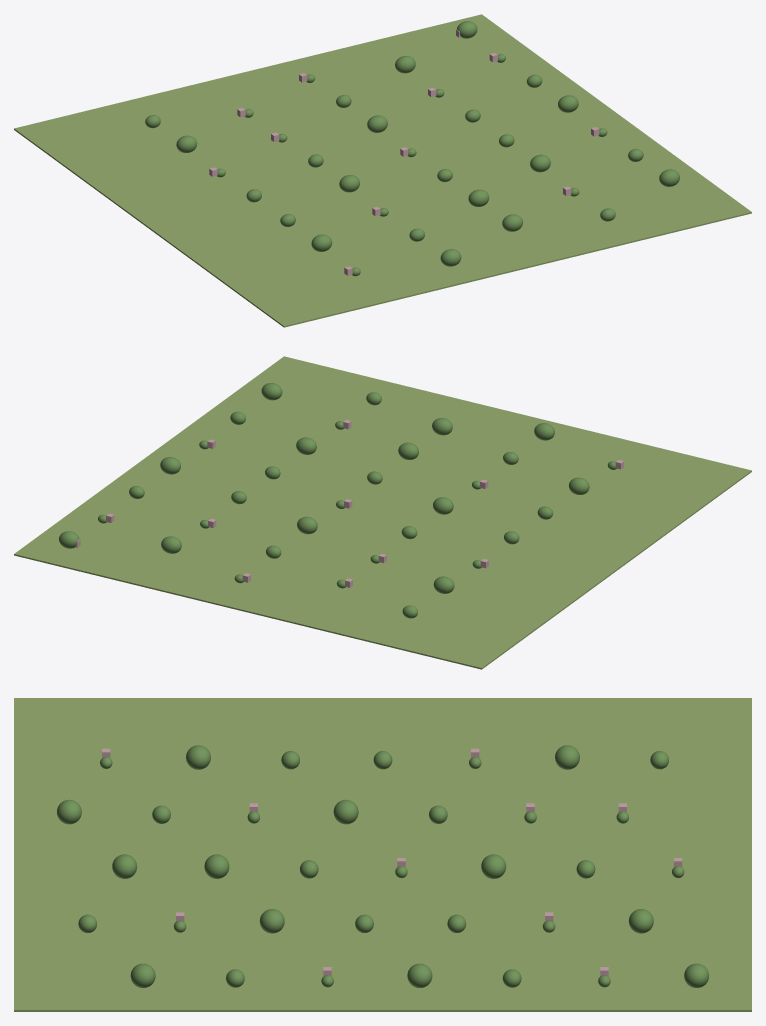
Rendered from ground-cover-restoration.glb.
The picture shows the model from 3 angles, top to bottom: view 1: azimuth 30°, elevation 25°; view 2: azimuth 150°, elevation 25°; view 3: azimuth 270°, elevation 25°; orthographic projection. The views are drawn at different scales.
Parts seen in each view (by area): view 1: ground-cover-restoration; view 2: ground-cover-restoration; view 3: ground-cover-restoration.
Boxes of the visible parts, left/top/right/bottom form: ground-cover-restoration: left=14, top=14, right=751, bottom=327; ground-cover-restoration: left=14, top=356, right=751, bottom=669; ground-cover-restoration: left=14, top=698, right=751, bottom=1011.
Bounding box in the file's own units: 40 × 1.4 × 40.
